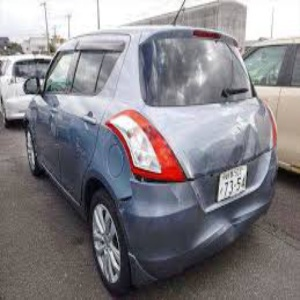door_scratch: (121, 110, 249, 248)
